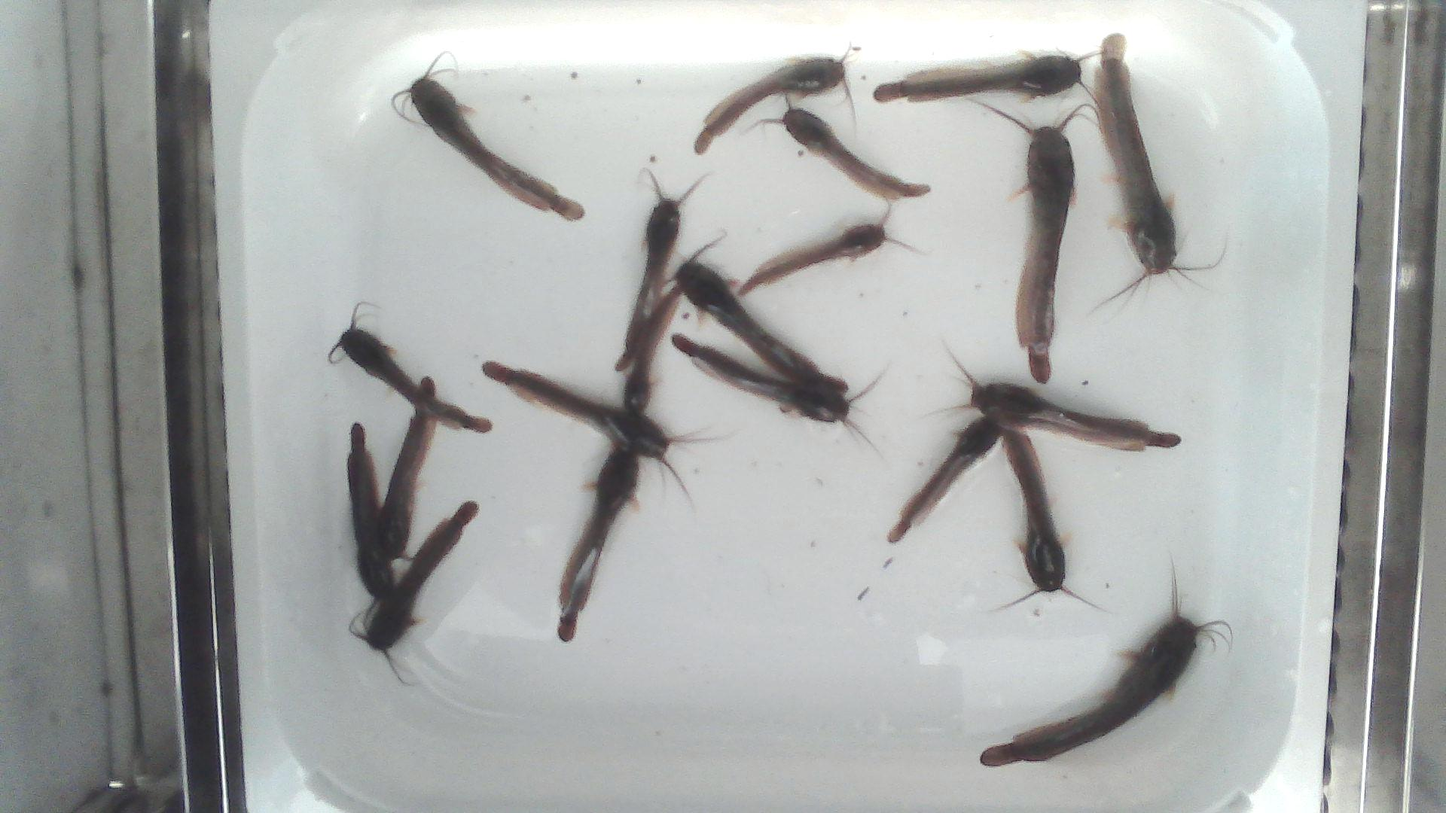lele: (981, 567, 1217, 766), (1097, 33, 1217, 303), (975, 102, 1084, 382), (672, 236, 848, 394), (671, 333, 887, 458), (407, 74, 584, 220), (613, 165, 712, 372), (483, 362, 673, 457), (360, 503, 477, 649), (556, 447, 643, 640), (336, 327, 490, 431), (969, 379, 1180, 450), (695, 58, 844, 152), (889, 418, 1002, 541), (782, 107, 928, 199), (999, 427, 1065, 590), (740, 223, 886, 294), (874, 55, 1081, 100), (347, 423, 393, 597), (384, 410, 436, 563), (622, 285, 679, 414)
